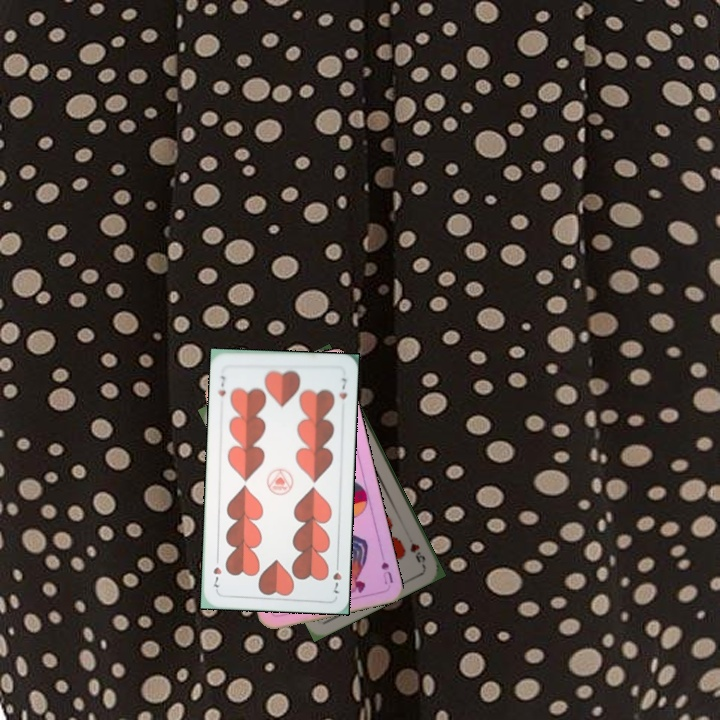H7: (329, 557, 344, 596), (215, 371, 228, 399)
H9: (406, 539, 428, 569)
SU: (376, 547, 396, 587)
